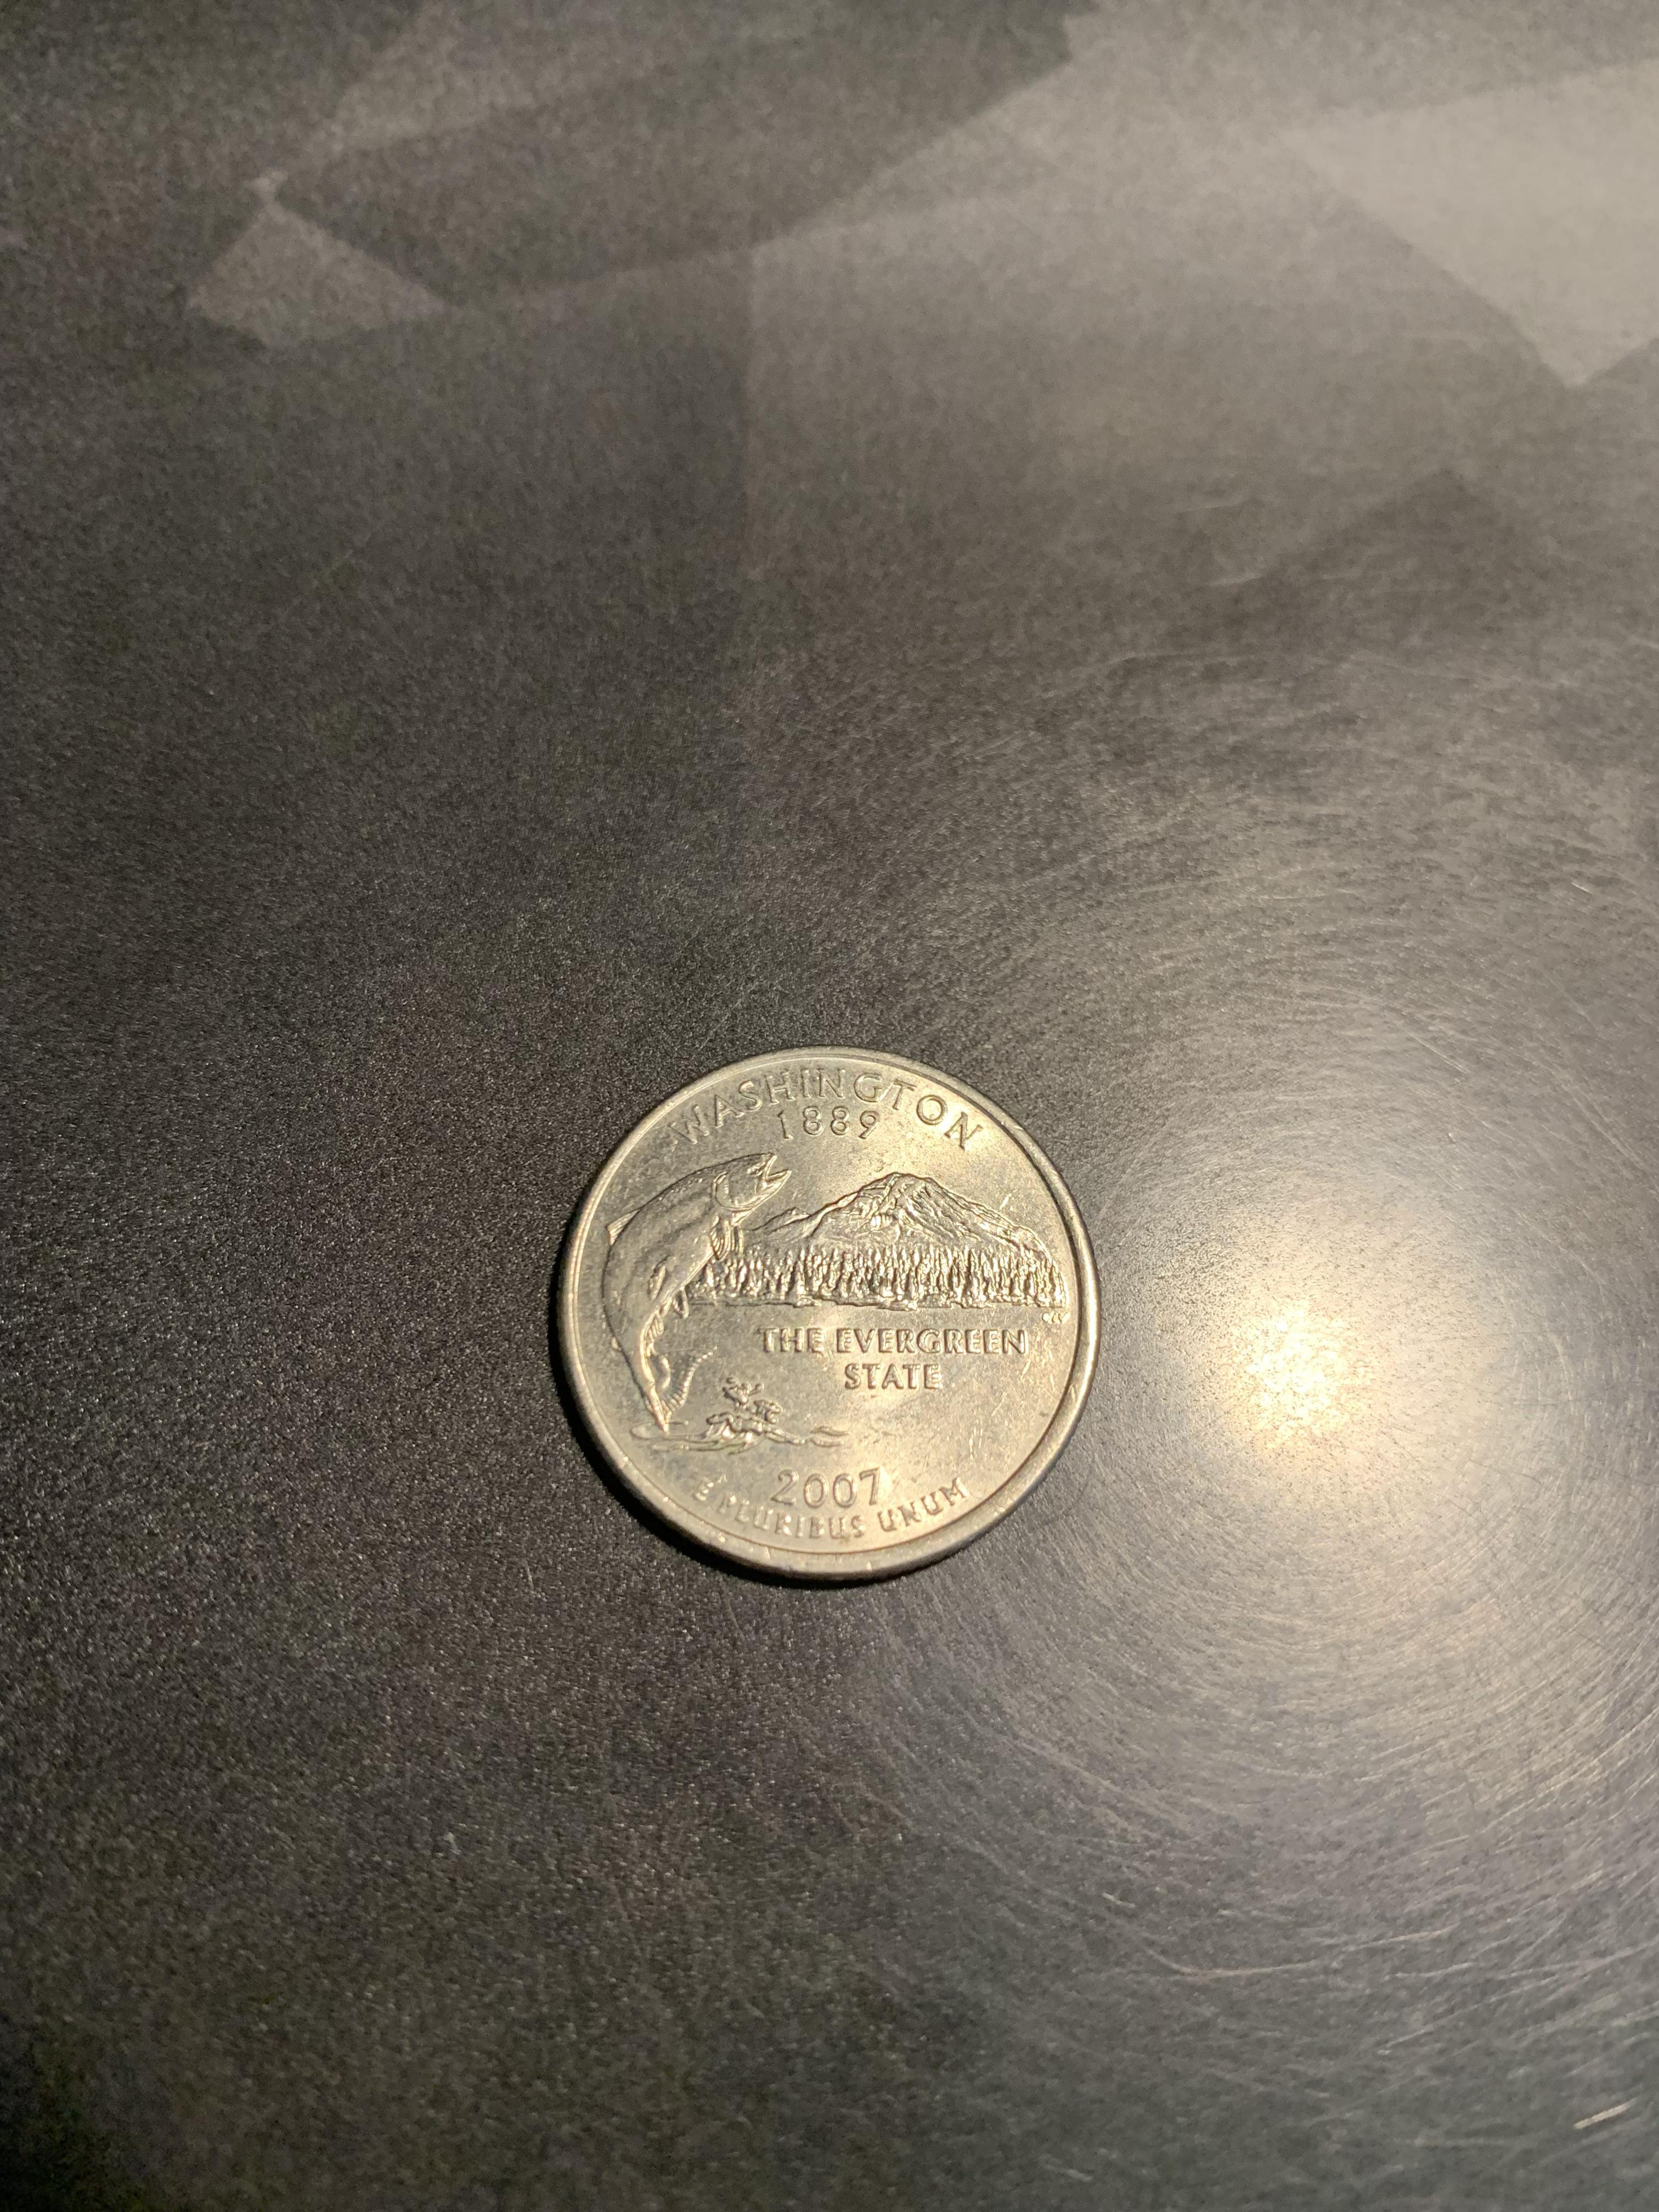Quarter: (525, 1035, 1129, 1611)
